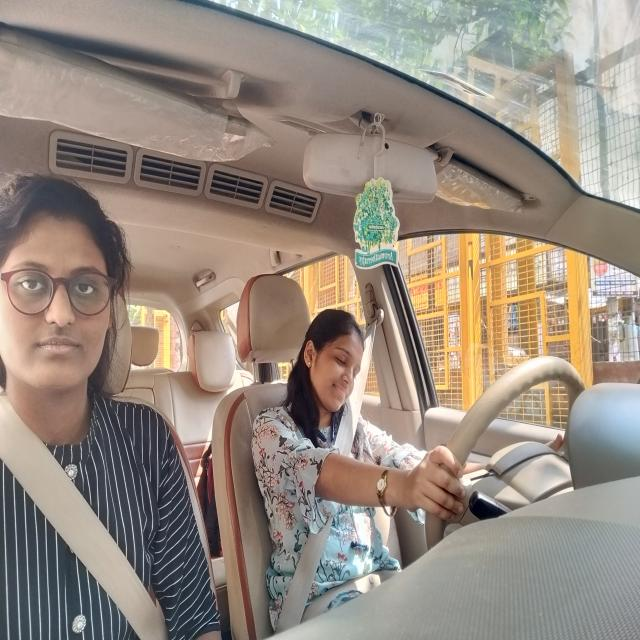drowsy: (303, 305, 373, 414)
person: (0, 165, 126, 386)
